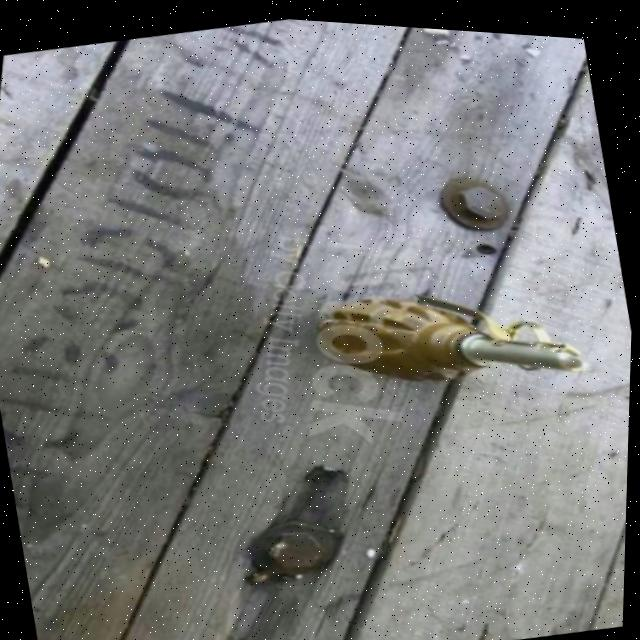grenade: (292, 224, 608, 449)
